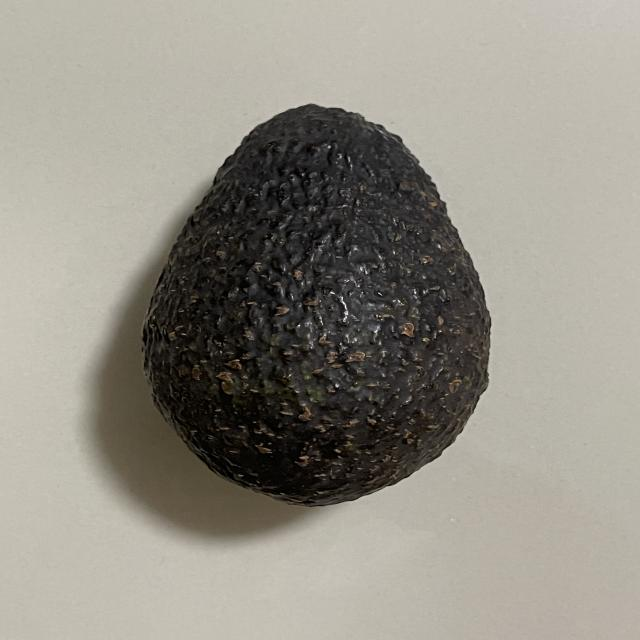Level2: (133, 95, 502, 512)
